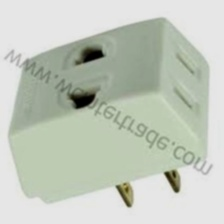three_eye_plug: (2, 7, 215, 215)
